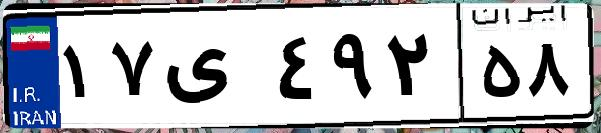1: (57, 26, 110, 100)
2: (385, 28, 445, 110)
4: (270, 28, 330, 110)
5: (475, 38, 525, 113)
7: (110, 28, 158, 98)
8: (525, 38, 570, 115)
9: (330, 28, 385, 110)
ی: (158, 20, 270, 120)
